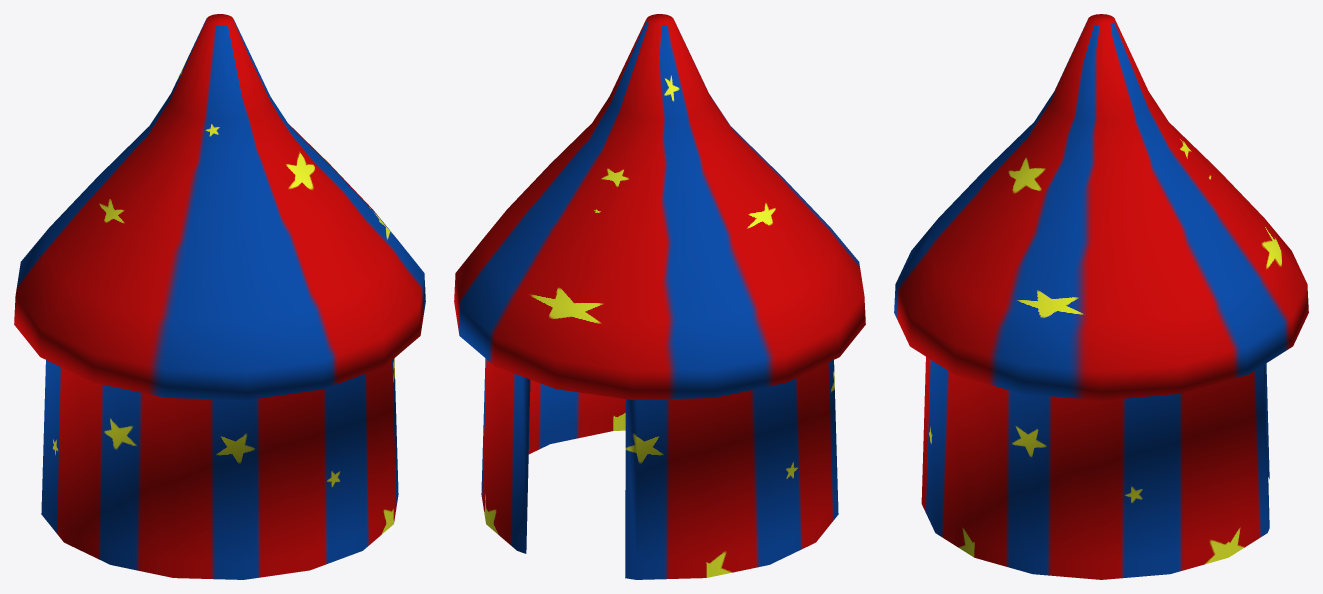
File: RoundTent.glb
3 views of the same model, side by side, from view 1: azimuth 30°, elevation 25°; view 2: azimuth 150°, elevation 25°; view 3: azimuth 270°, elevation 25° (orthographic).
Parts seen in each view (by area): view 1: Cylinder; view 2: Cylinder; view 3: Cylinder.
Part boxes in pixels (x1,y1,x2,y2): Cylinder: [14, 14, 425, 579]; Cylinder: [454, 14, 865, 579]; Cylinder: [894, 14, 1308, 579].
Bounding box in the file's own units: 4.17 × 5.37 × 4.17.
Materials: 1 (1 with a texture image).
